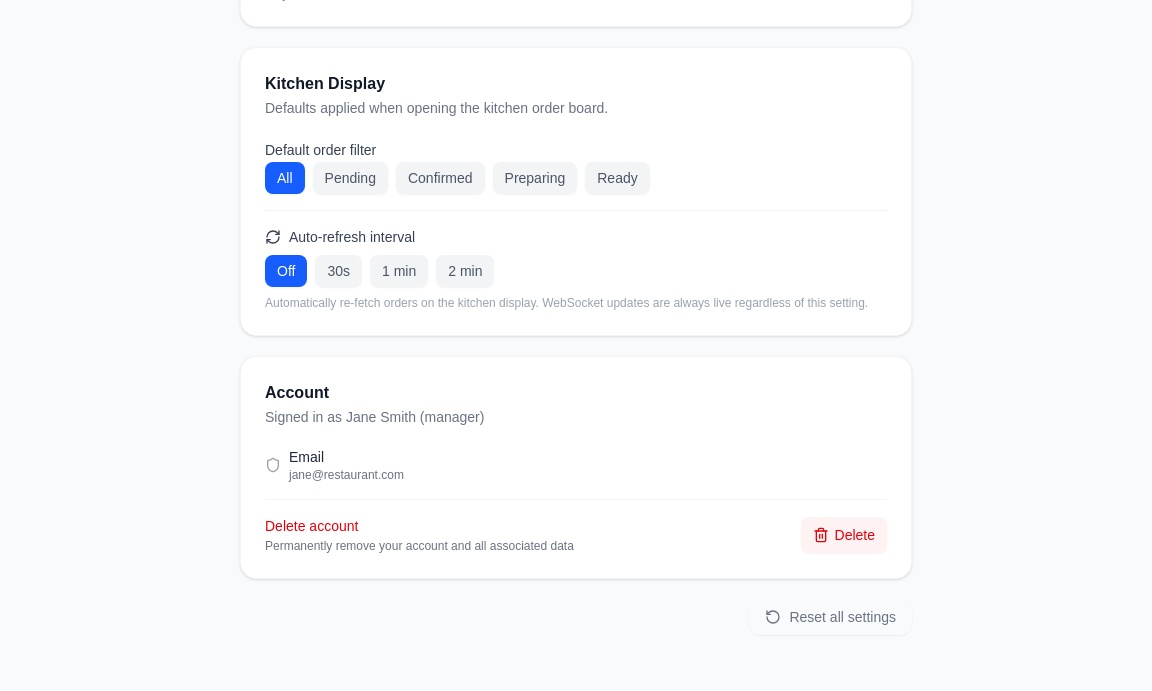
Test case: SettingsPage › delete button is enabled when both password and phrase are correct
(page scrolled)
Step 1. Click the button "Delete" → (844, 535), box [800,517,887,553]
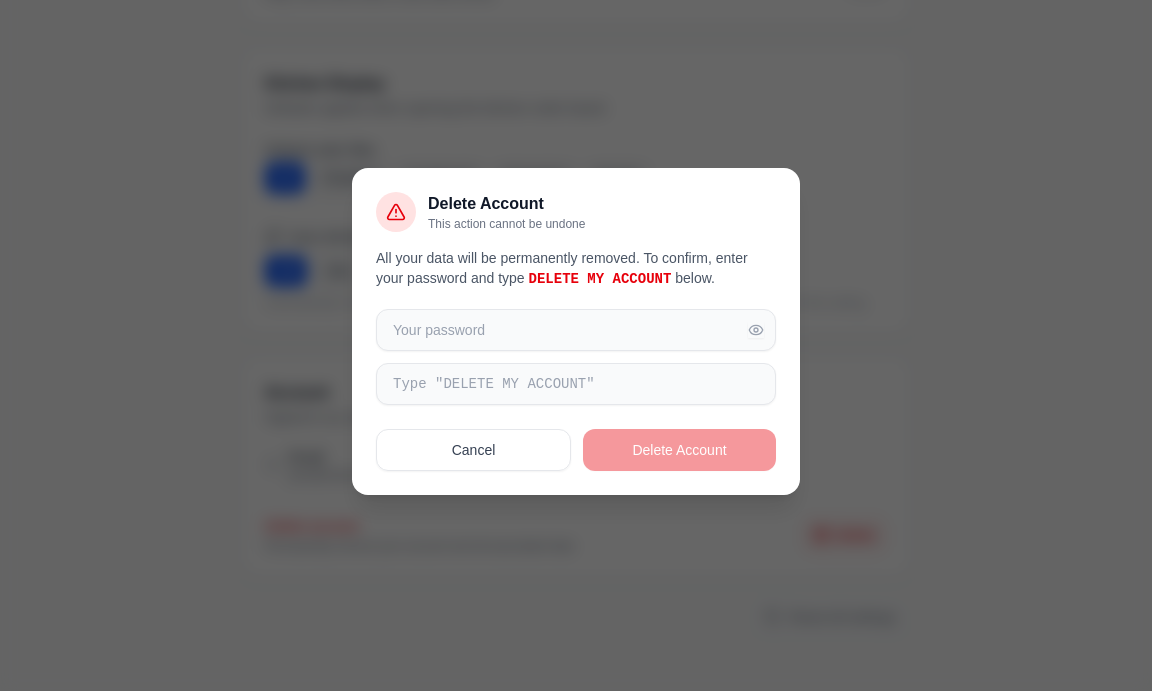
Step 2. Type "mypassword123" into the password field with placeholder "Your password" → (576, 330), box [376,308,776,350]
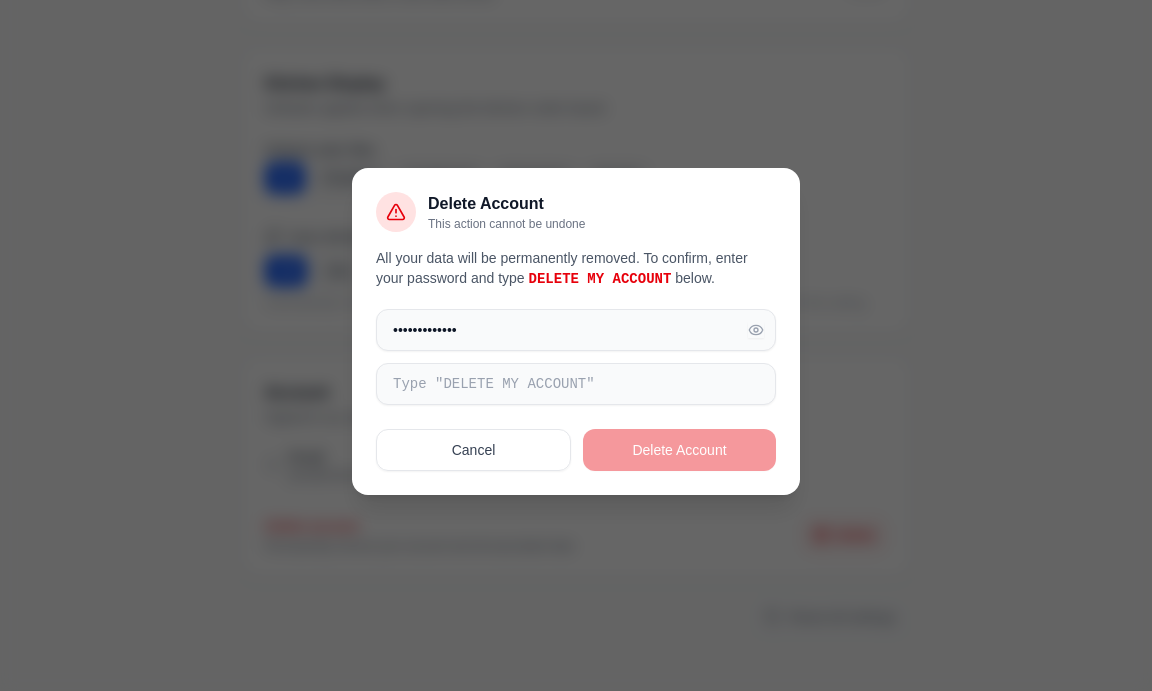
Step 3. Type "DELETE MY ACCOUNT" into the field with placeholder "Type \"DELETE MY ACCOUNT\"" → (576, 384), box [376,362,776,404]
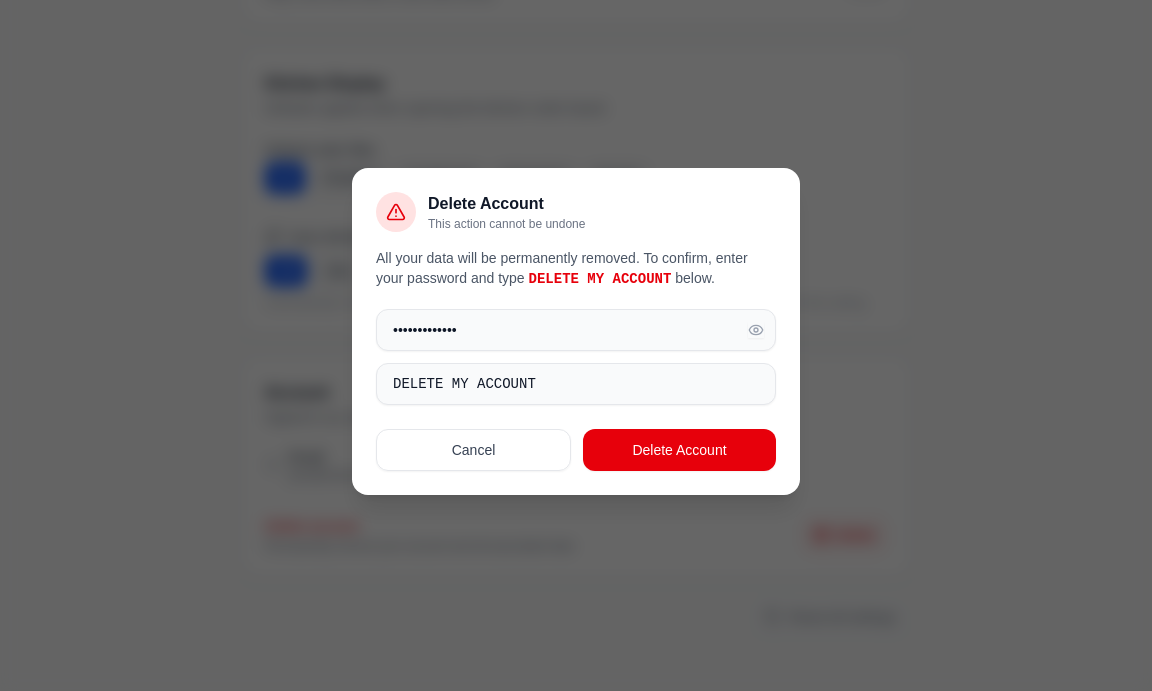
Expected: the button "Delete Account" is enabled, [583,428,776,470]
